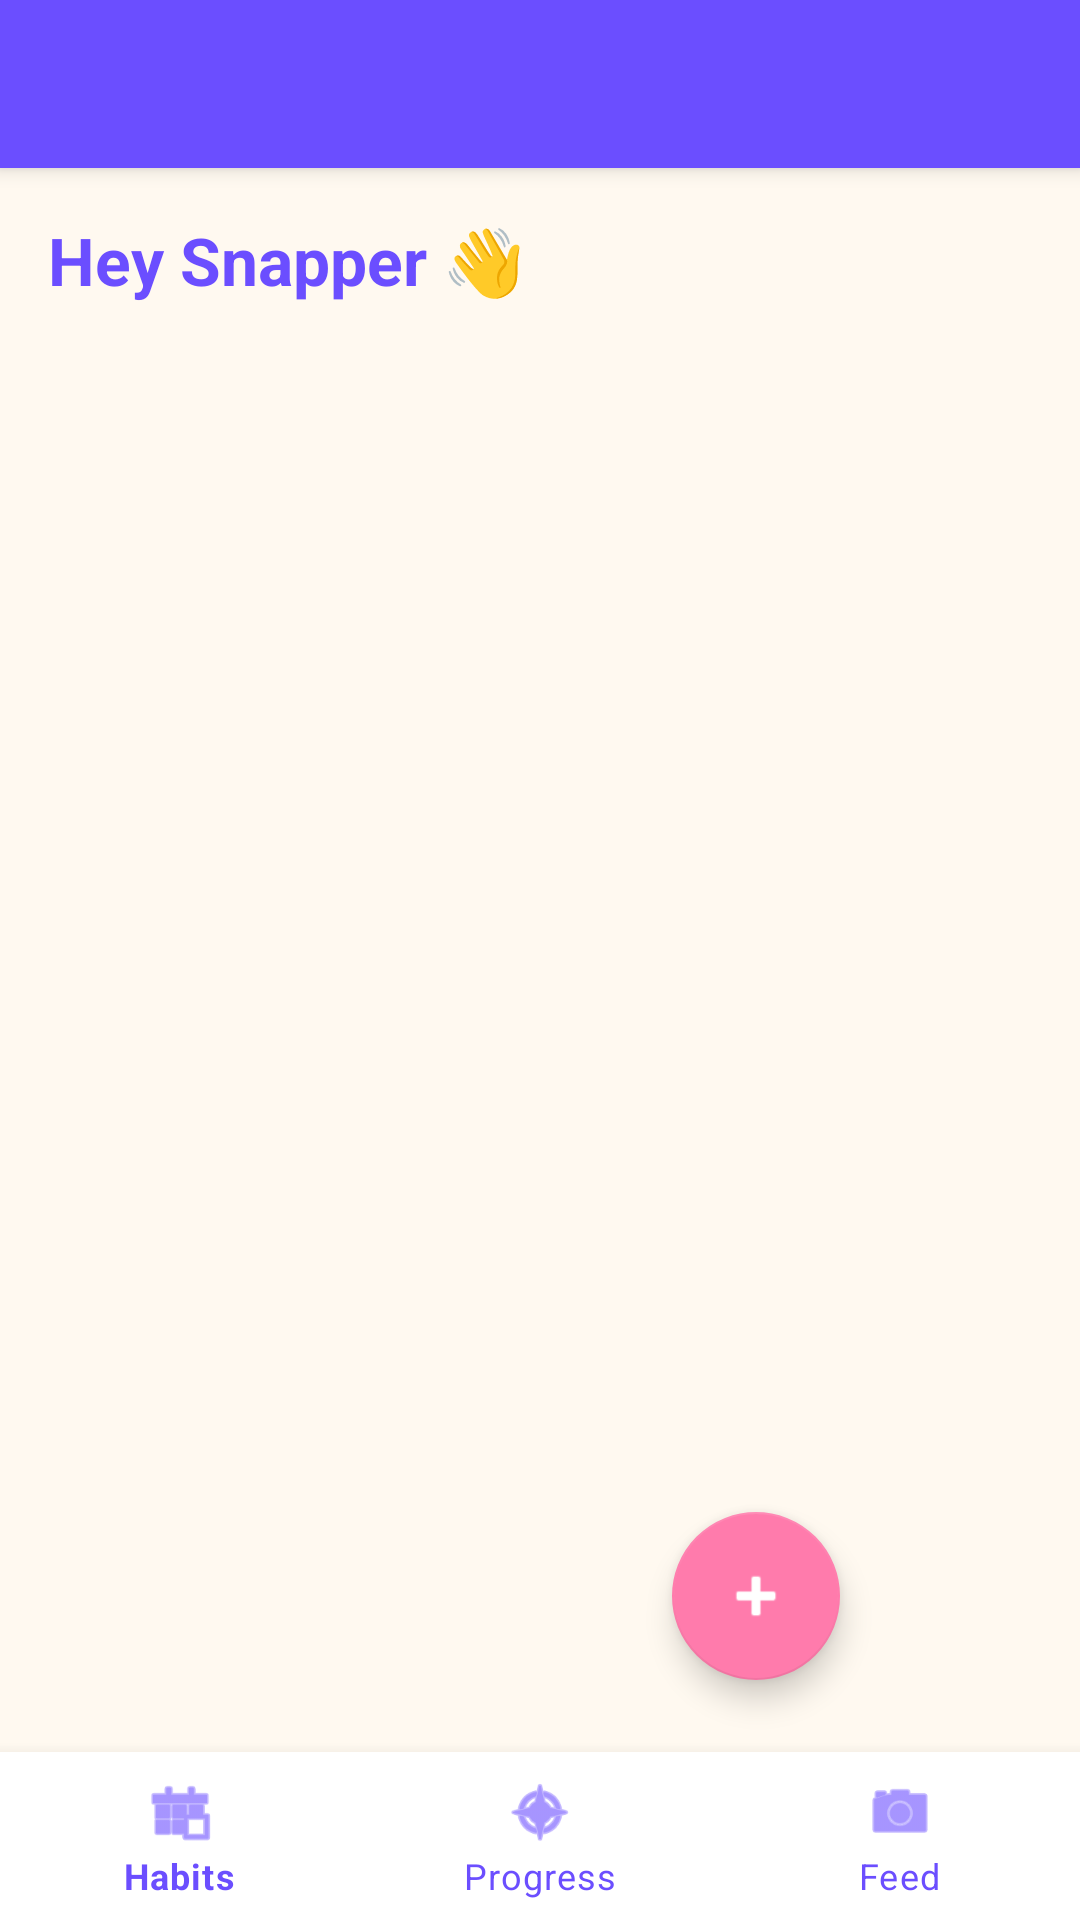

Where to tap for icons on this 1080w x 1920h app screen, as point (x, y):
add: point (756, 1596)
